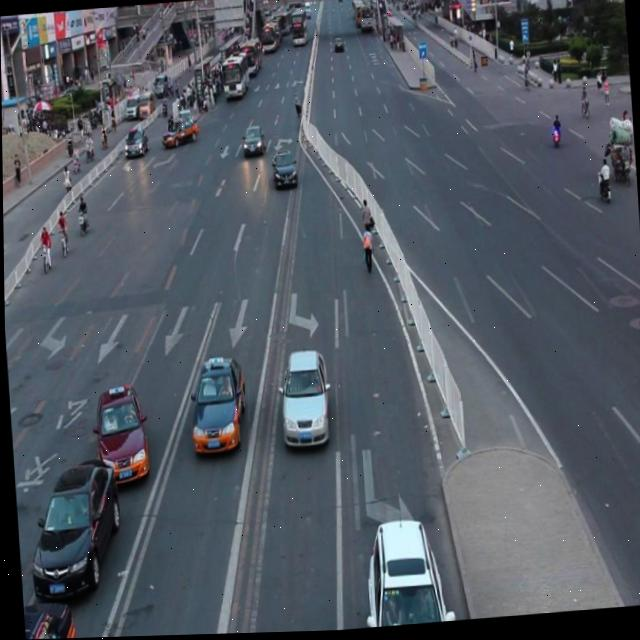car: (24, 453, 123, 600), (361, 515, 447, 630), (186, 353, 248, 460), (91, 382, 150, 483), (276, 347, 332, 452), (21, 595, 73, 640), (271, 148, 298, 193)
